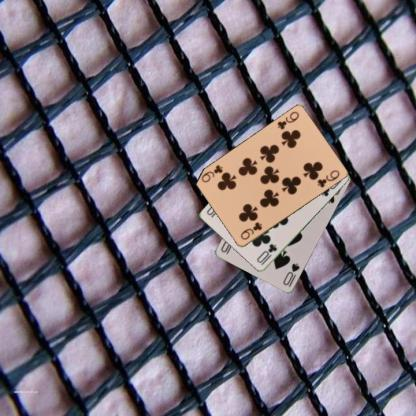10c: (254, 241, 279, 267)
10s: (280, 261, 301, 288)
9c: (238, 219, 264, 242), (274, 109, 300, 131)
